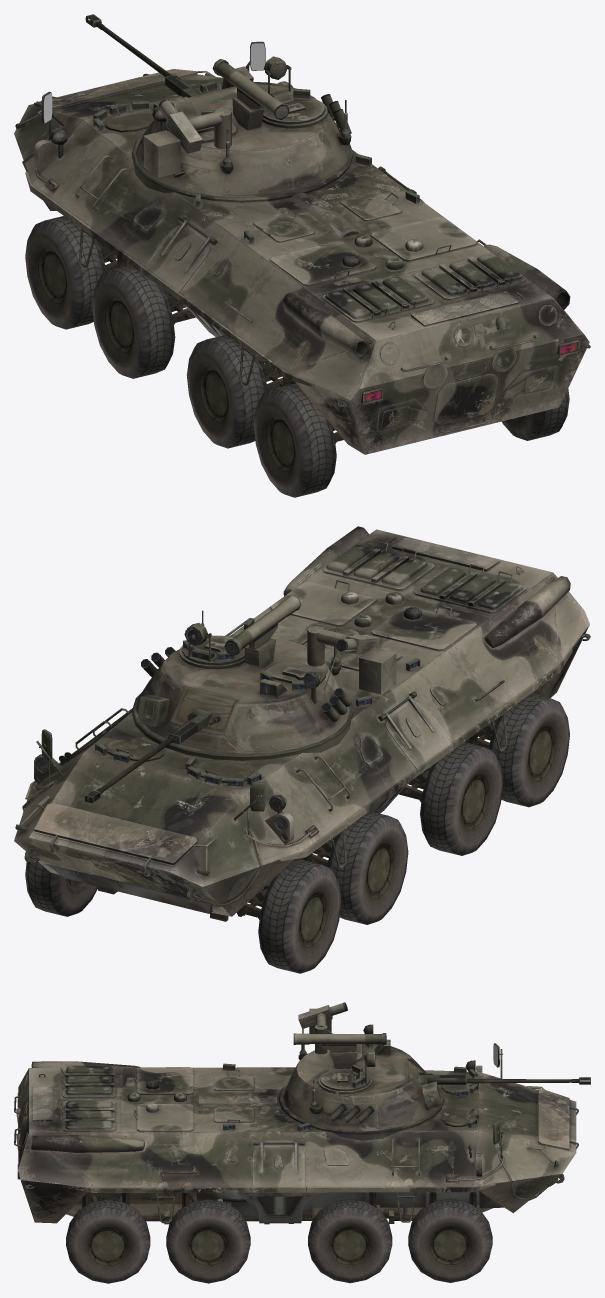
File: btr90.glb
The picture shows the model from 3 angles, top to bottom: view 1: azimuth 30°, elevation 25°; view 2: azimuth 150°, elevation 25°; view 3: azimuth 270°, elevation 25°; orthographic projection. The views are drawn at different scales.
Parts seen in each view (by area): view 1: DrawCall_0036, DrawCall_0006, DrawCall_0009, DrawCall_0007, DrawCall_0013, DrawCall_0005, DrawCall_0012, DrawCall_0014; view 2: DrawCall_0036, DrawCall_0006, DrawCall_0009, DrawCall_0007, DrawCall_0013, DrawCall_0217, DrawCall_0005, DrawCall_0008, DrawCall_0012; view 3: DrawCall_0036, DrawCall_0006, DrawCall_0009, DrawCall_0007, DrawCall_0217, DrawCall_0005, DrawCall_0013, DrawCall_0012, DrawCall_0008.
Part boxes in pixels (x1,y1,x2,y2): DrawCall_0036: (14,69,589,454); DrawCall_0006: (25,216,569,497); DrawCall_0009: (135,56,351,197); DrawCall_0007: (15,41,590,433); DrawCall_0013: (144,99,231,177); DrawCall_0005: (197,94,327,142); DrawCall_0012: (85,14,171,76); DrawCall_0014: (44,43,264,122); DrawCall_0036: (14,526,589,916); DrawCall_0006: (25,693,569,973); DrawCall_0009: (135,595,351,753); DrawCall_0007: (15,536,590,921); DrawCall_0013: (307,626,396,694); DrawCall_0217: (46,635,409,913); DrawCall_0005: (154,635,325,727); DrawCall_0008: (168,709,220,744); DrawCall_0012: (84,736,174,803); DrawCall_0036: (16,1061,576,1223); DrawCall_0006: (66,1191,492,1283); DrawCall_0009: (283,1024,441,1131); DrawCall_0007: (14,1043,578,1224); DrawCall_0217: (196,1142,503,1223); DrawCall_0005: (318,1044,429,1109); DrawCall_0013: (298,1002,347,1054); DrawCall_0012: (466,1077,590,1084); DrawCall_0008: (418,1072,466,1084).
Size of the model in its own units: 0.0822 by 0.0771 by 0.1991.
Materials: 6 (5 with a texture image).
